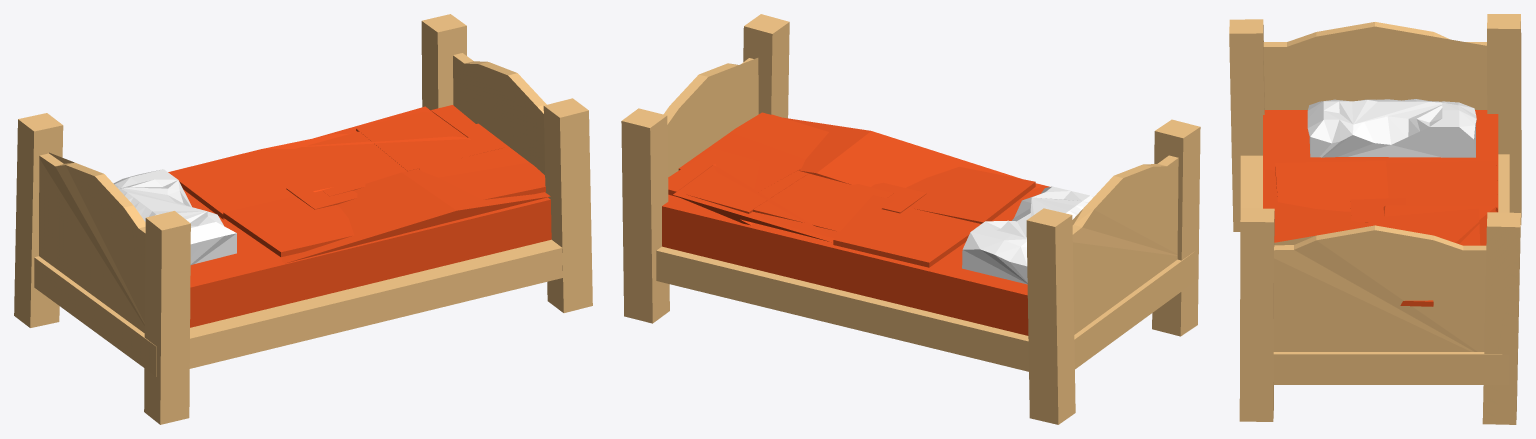
Rendered from bed_02.glb.
The picture shows the model from 3 angles, left to right: view 1: azimuth 30°, elevation 25°; view 2: azimuth 150°, elevation 25°; view 3: azimuth 270°, elevation 25°; orthographic projection.
Visible parts, largest first — view 1: Asset3DLoader.sceneRoot; view 2: Asset3DLoader.sceneRoot; view 3: Asset3DLoader.sceneRoot.
Boxes of the visible parts, bbox=[...] form: Asset3DLoader.sceneRoot: bbox=[14, 14, 592, 424]; Asset3DLoader.sceneRoot: bbox=[621, 14, 1200, 424]; Asset3DLoader.sceneRoot: bbox=[1229, 14, 1521, 424].
Bounding box in the file's own units: 0.4579 × 0.2056 × 0.2611.
